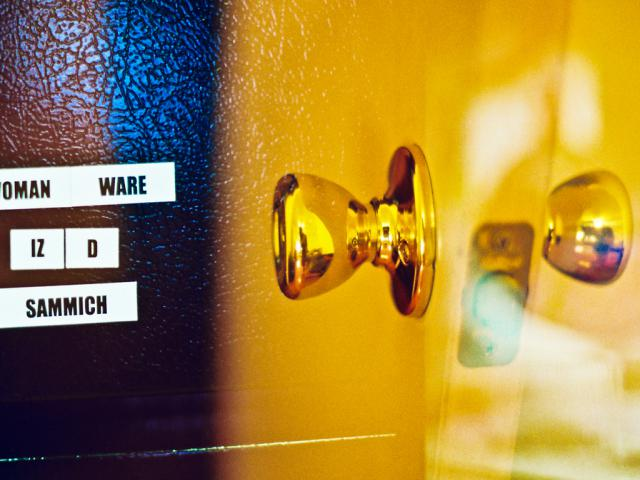Door-handle: (272, 140, 439, 322)
